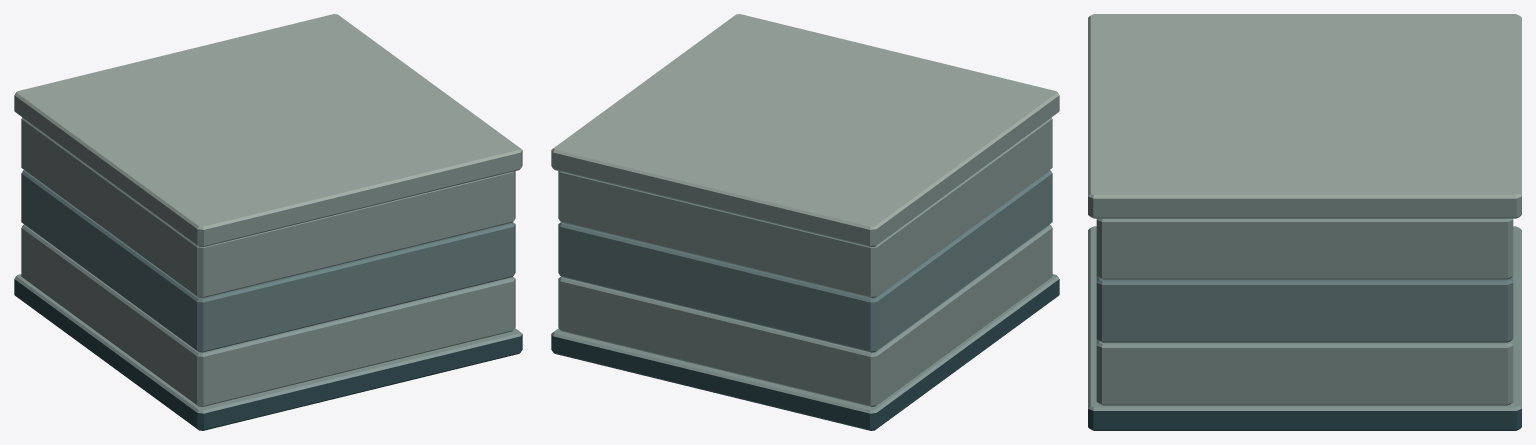
Rendered from platform.glb.
3 views of the same model, side by side, from view 1: azimuth 30°, elevation 25°; view 2: azimuth 150°, elevation 25°; view 3: azimuth 270°, elevation 25° (orthographic). The views are drawn at different scales.
Parts seen in each view (by area): view 1: platform__body; view 2: platform__body; view 3: platform__body.
Part boxes in pixels (<box>): platform__body: <box>14,14,522,430</box>; platform__body: <box>551,14,1059,430</box>; platform__body: <box>1088,14,1521,430</box>.
Bounding box in the file's own units: 2 × 1.2 × 2.
